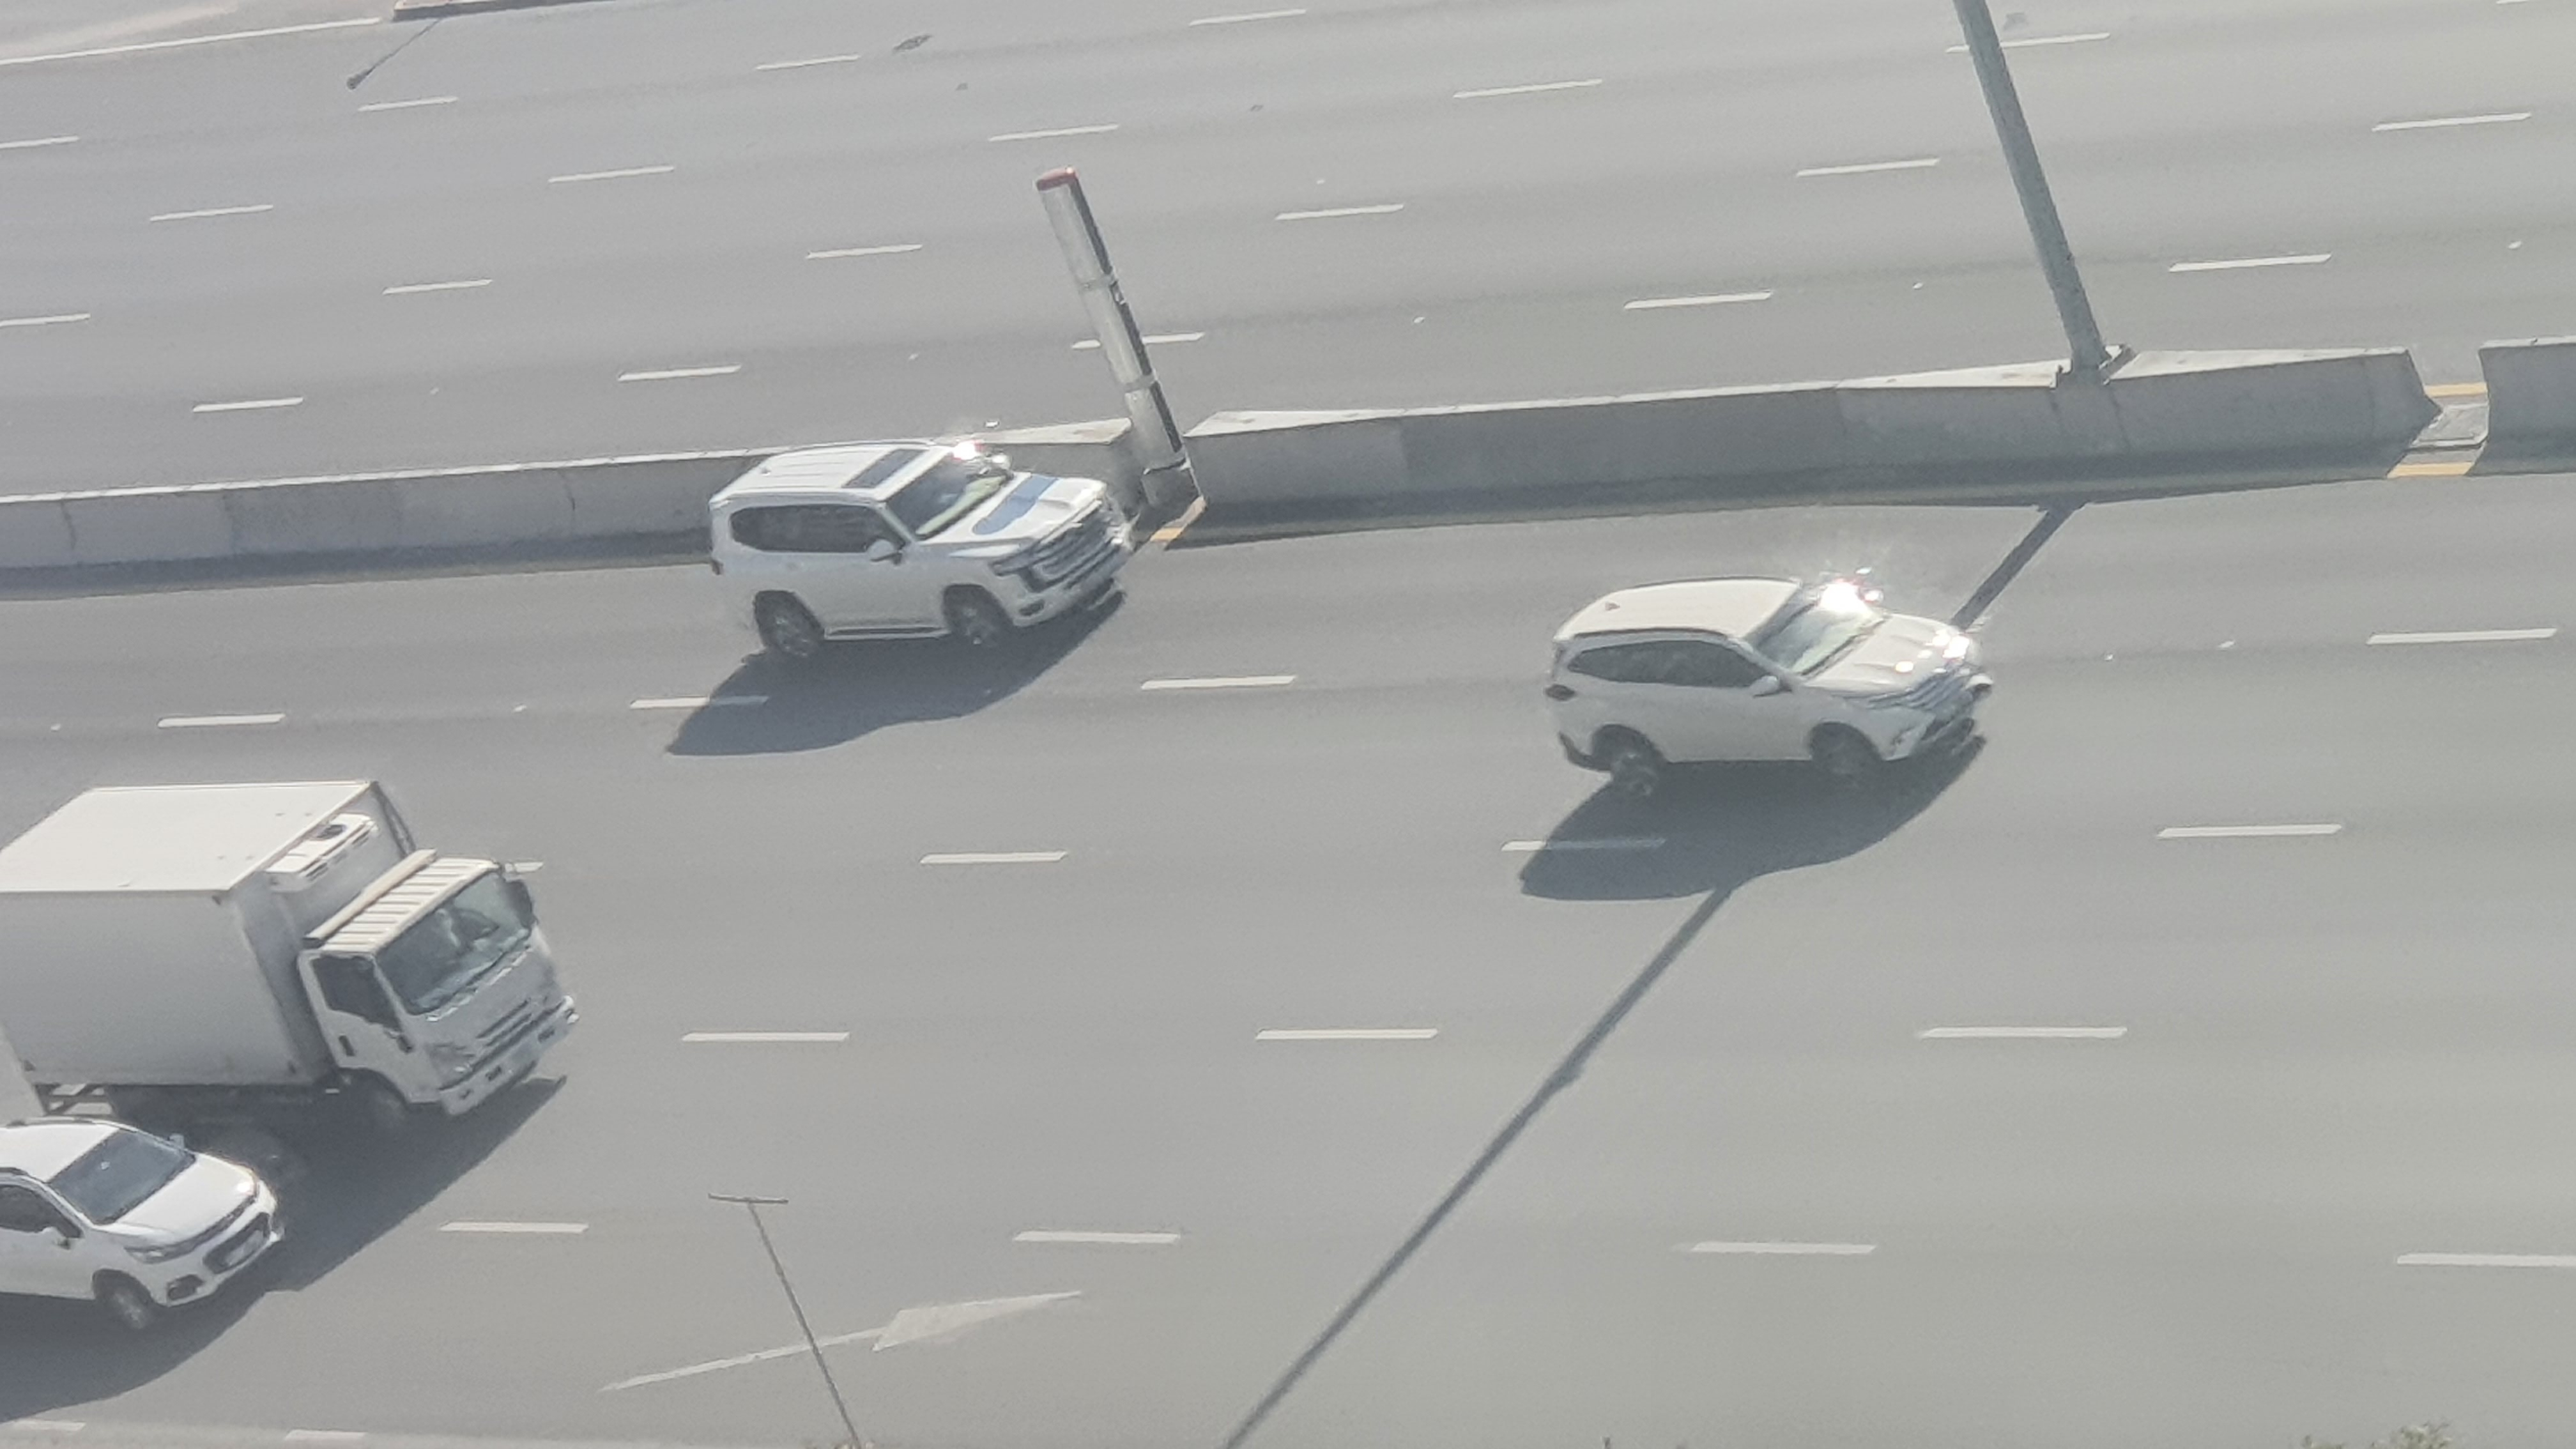NotSunroof: (1541, 577, 1996, 793), (4, 1116, 285, 1332)
Sunroof: (701, 446, 1150, 660)
